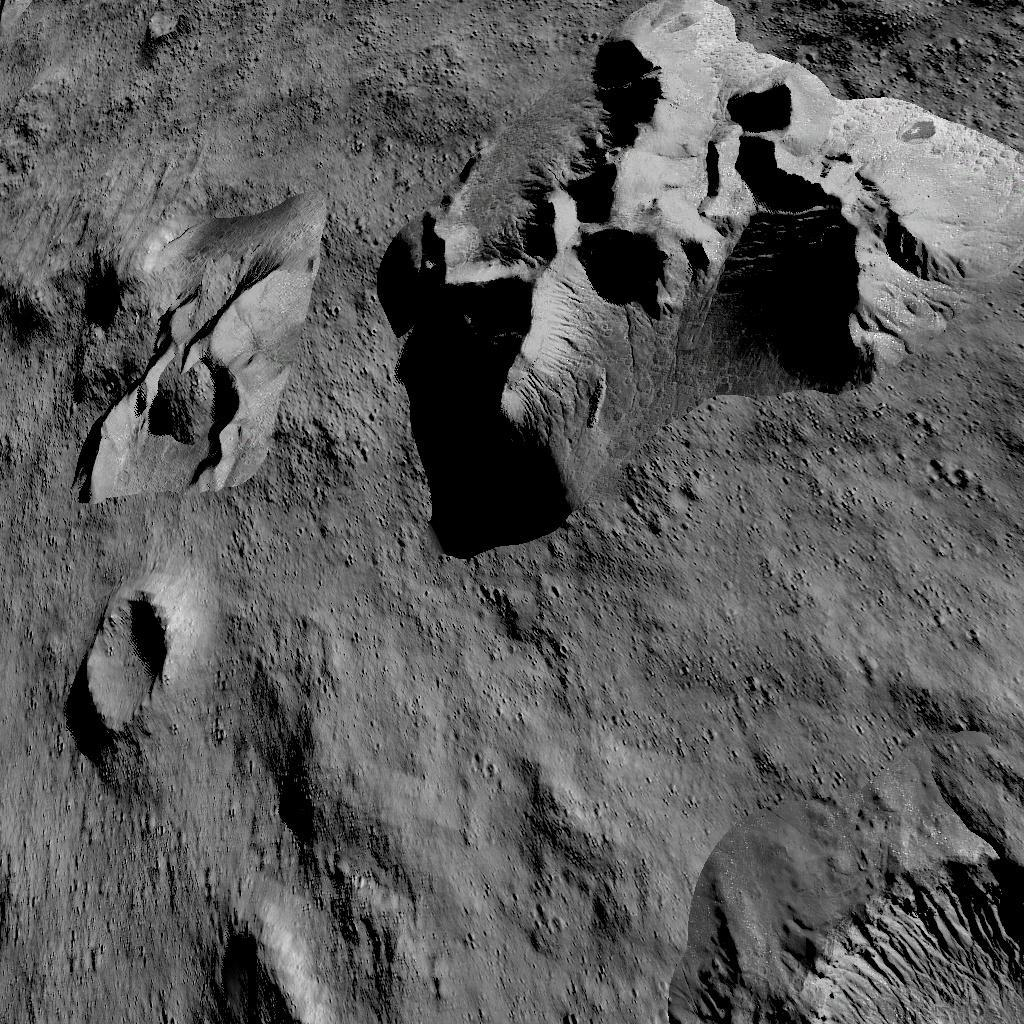Boulders: (357, 0, 1024, 560), (180, 922, 298, 1024)
Crater: (63, 240, 315, 511), (749, 846, 1024, 1024), (50, 562, 212, 775), (258, 756, 344, 855), (132, 0, 210, 61)
Plan surface: (362, 594, 724, 1024), (747, 568, 1024, 818), (9, 82, 339, 210), (12, 798, 162, 1024)
